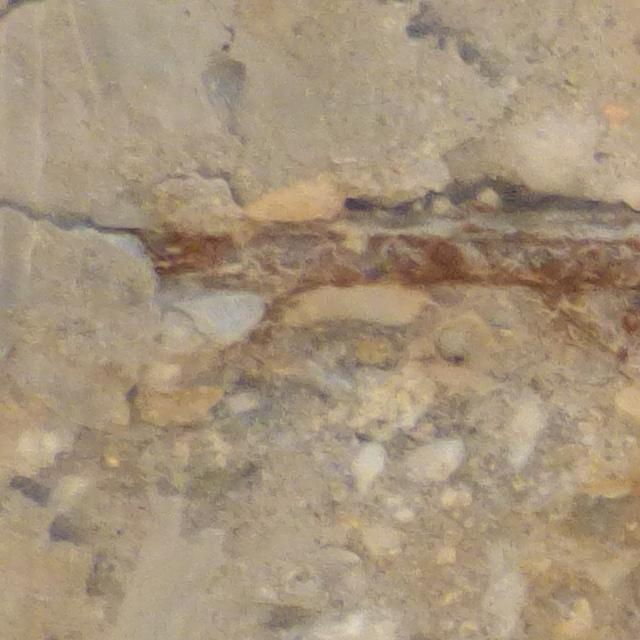Rust: (144, 219, 640, 299)
